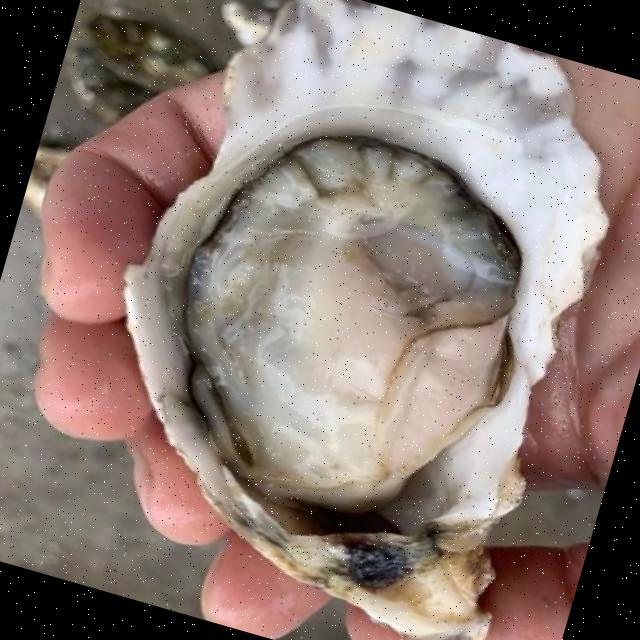Oyster-Closed: (82, 10, 220, 92), (62, 46, 156, 124)
Oyster-Open: (126, 0, 608, 640)
